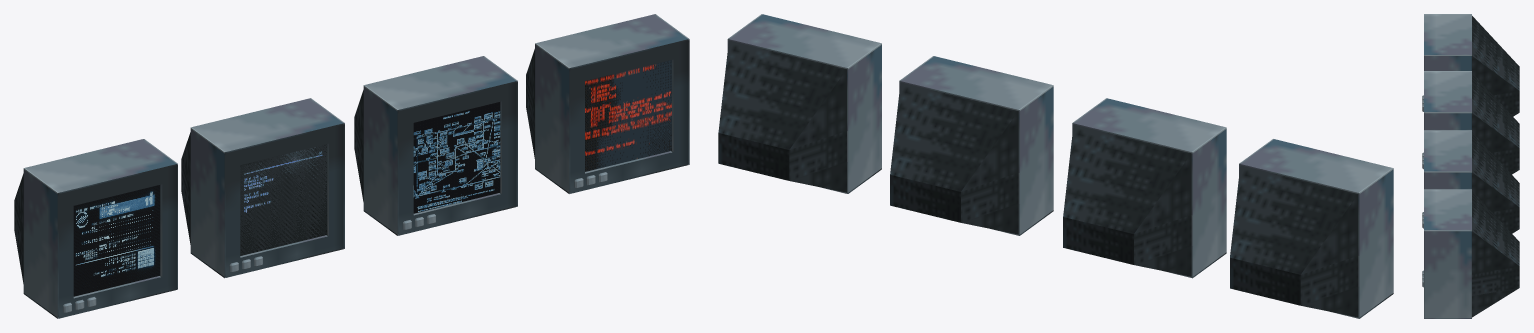
Rendered from Crt.fbx.
3 views of the same model, side by side, from view 1: azimuth 30°, elevation 25°; view 2: azimuth 150°, elevation 25°; view 3: azimuth 270°, elevation 25° (orthographic). The views are drawn at different scales.
Visible parts, largest first — view 1: CrtVer4, CrtVer2, CrtVer3, CrtVer1; view 2: CrtVer1, CrtVer3, CrtVer2, CrtVer4; view 3: CrtVer4, CrtVer2, CrtVer3, CrtVer1.
Part boxes in pixels (bbox=[...]): CrtVer4: bbox=[526, 14, 689, 193]; CrtVer2: bbox=[181, 98, 344, 278]; CrtVer3: bbox=[354, 56, 517, 235]; CrtVer1: bbox=[14, 139, 177, 318]; CrtVer1: bbox=[1230, 139, 1393, 318]; CrtVer3: bbox=[890, 56, 1053, 235]; CrtVer2: bbox=[1063, 98, 1226, 278]; CrtVer4: bbox=[718, 14, 881, 193]; CrtVer4: bbox=[1422, 189, 1519, 318]; CrtVer2: bbox=[1422, 71, 1519, 174]; CrtVer3: bbox=[1422, 130, 1519, 233]; CrtVer1: bbox=[1422, 14, 1519, 116].
Size of the model in its own units: 382 by 72.58 by 72.68.
Materials: 6 (6 with a texture image).
